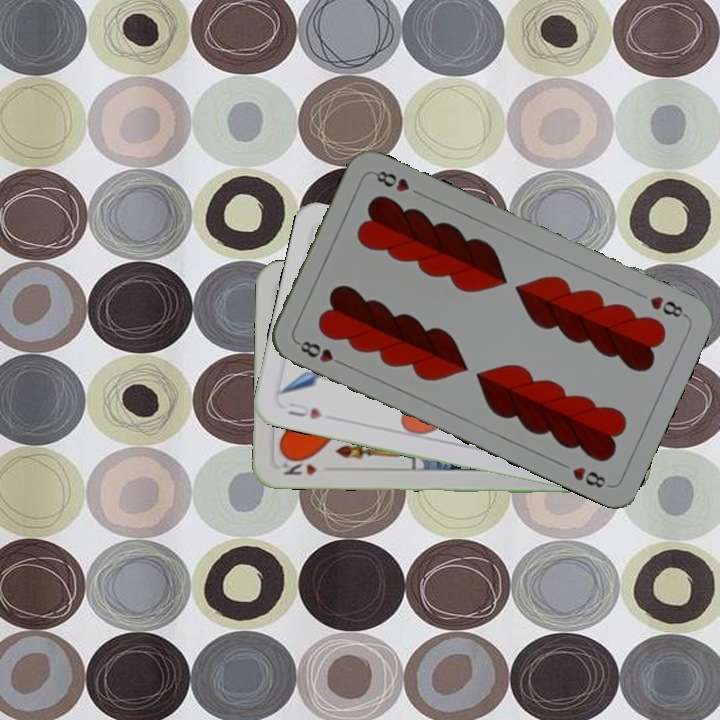H8: (293, 336, 348, 369), (645, 291, 689, 321)
HK: (277, 453, 320, 478)
HU: (283, 398, 325, 422)
